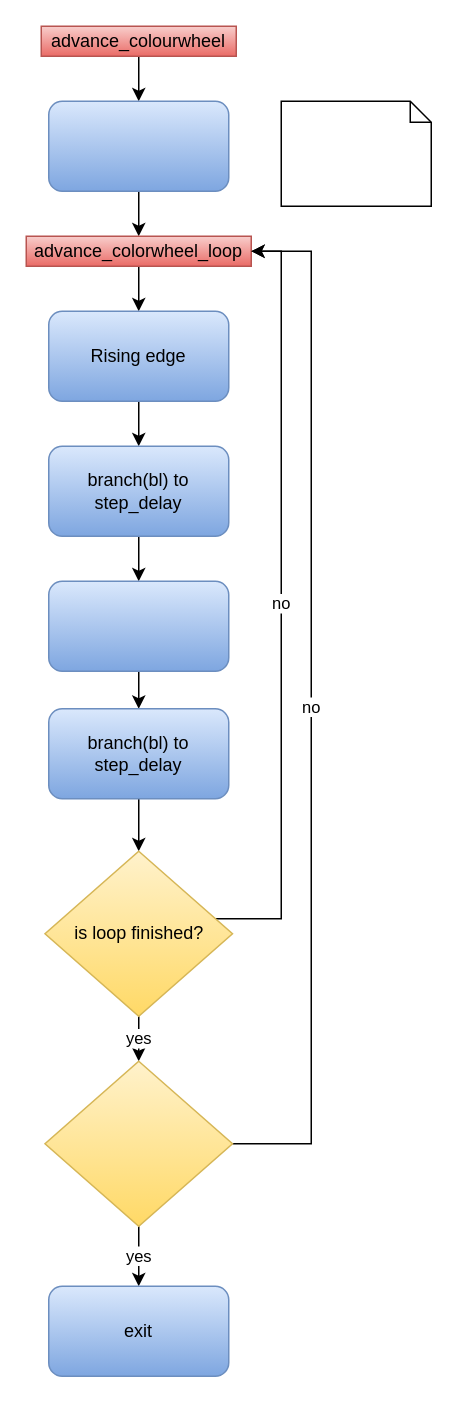
Some shapes in this 458 by 1403 pixel diagram are drawn without their labels. Each missing label, with the box of its shape:
Falling edge: (47, 580, 229, 671)
is Wheel at Hallsensor ?: (44, 1060, 232, 1226)
Note 200 loop iterations: (280, 100, 431, 206)
set register for loop: (47, 100, 229, 191)
